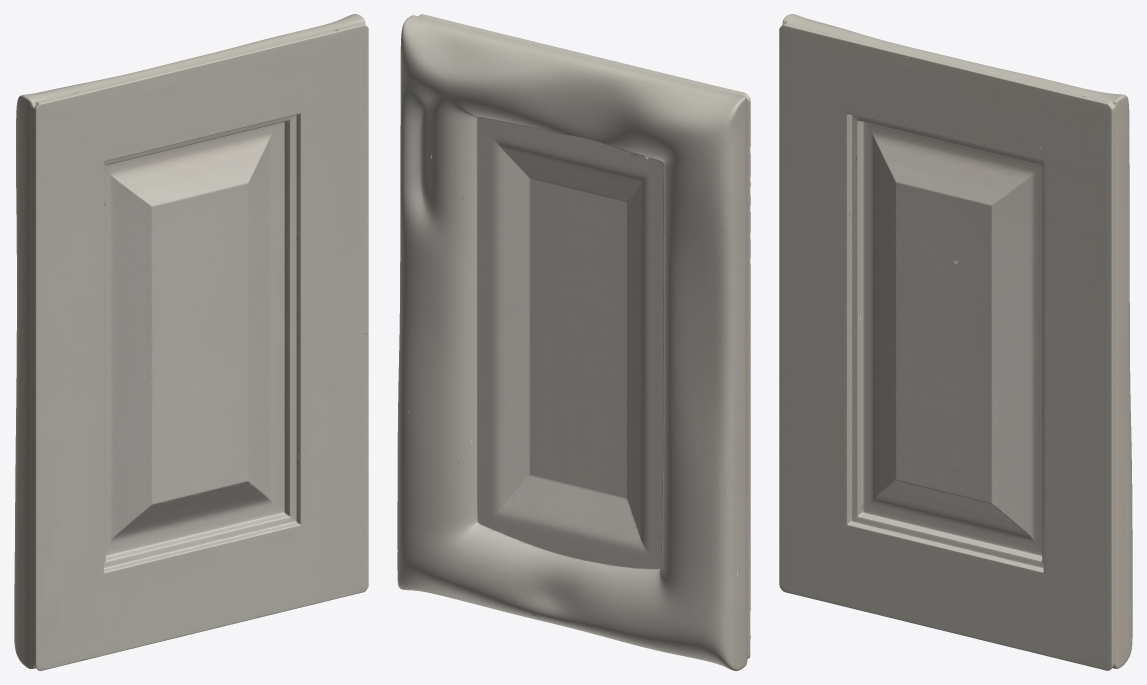
The picture shows the model from 3 angles, left to right: view 1: azimuth 30°, elevation 25°; view 2: azimuth 150°, elevation 25°; view 3: azimuth 330°, elevation 25°; orthographic projection.
Visible parts, largest first — view 1: material; view 2: material; view 3: material.
Part boxes in pixels (<box>): material: <box>14,14,368,670</box>; material: <box>397,14,750,670</box>; material: <box>779,14,1132,670</box>.
Bounding box in the file's own units: 0.6309 × 1.02 × 0.0944.
Materials: 1 (1 with a texture image).
